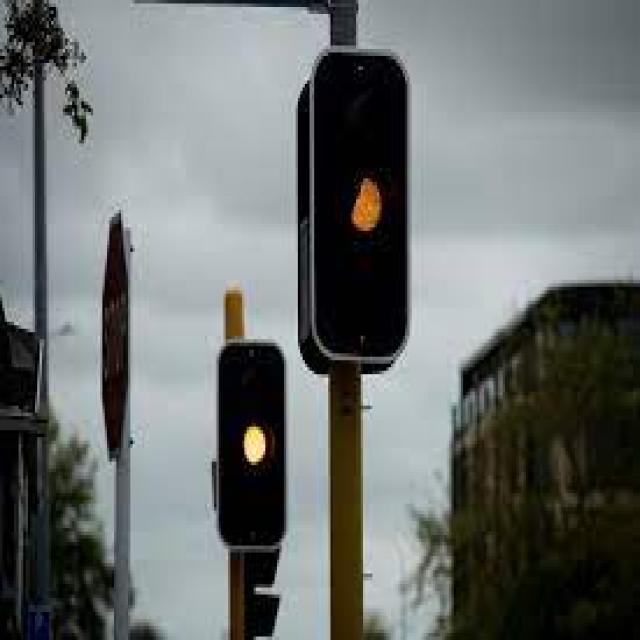yellow light: (319, 67, 401, 343), (220, 346, 280, 555)
